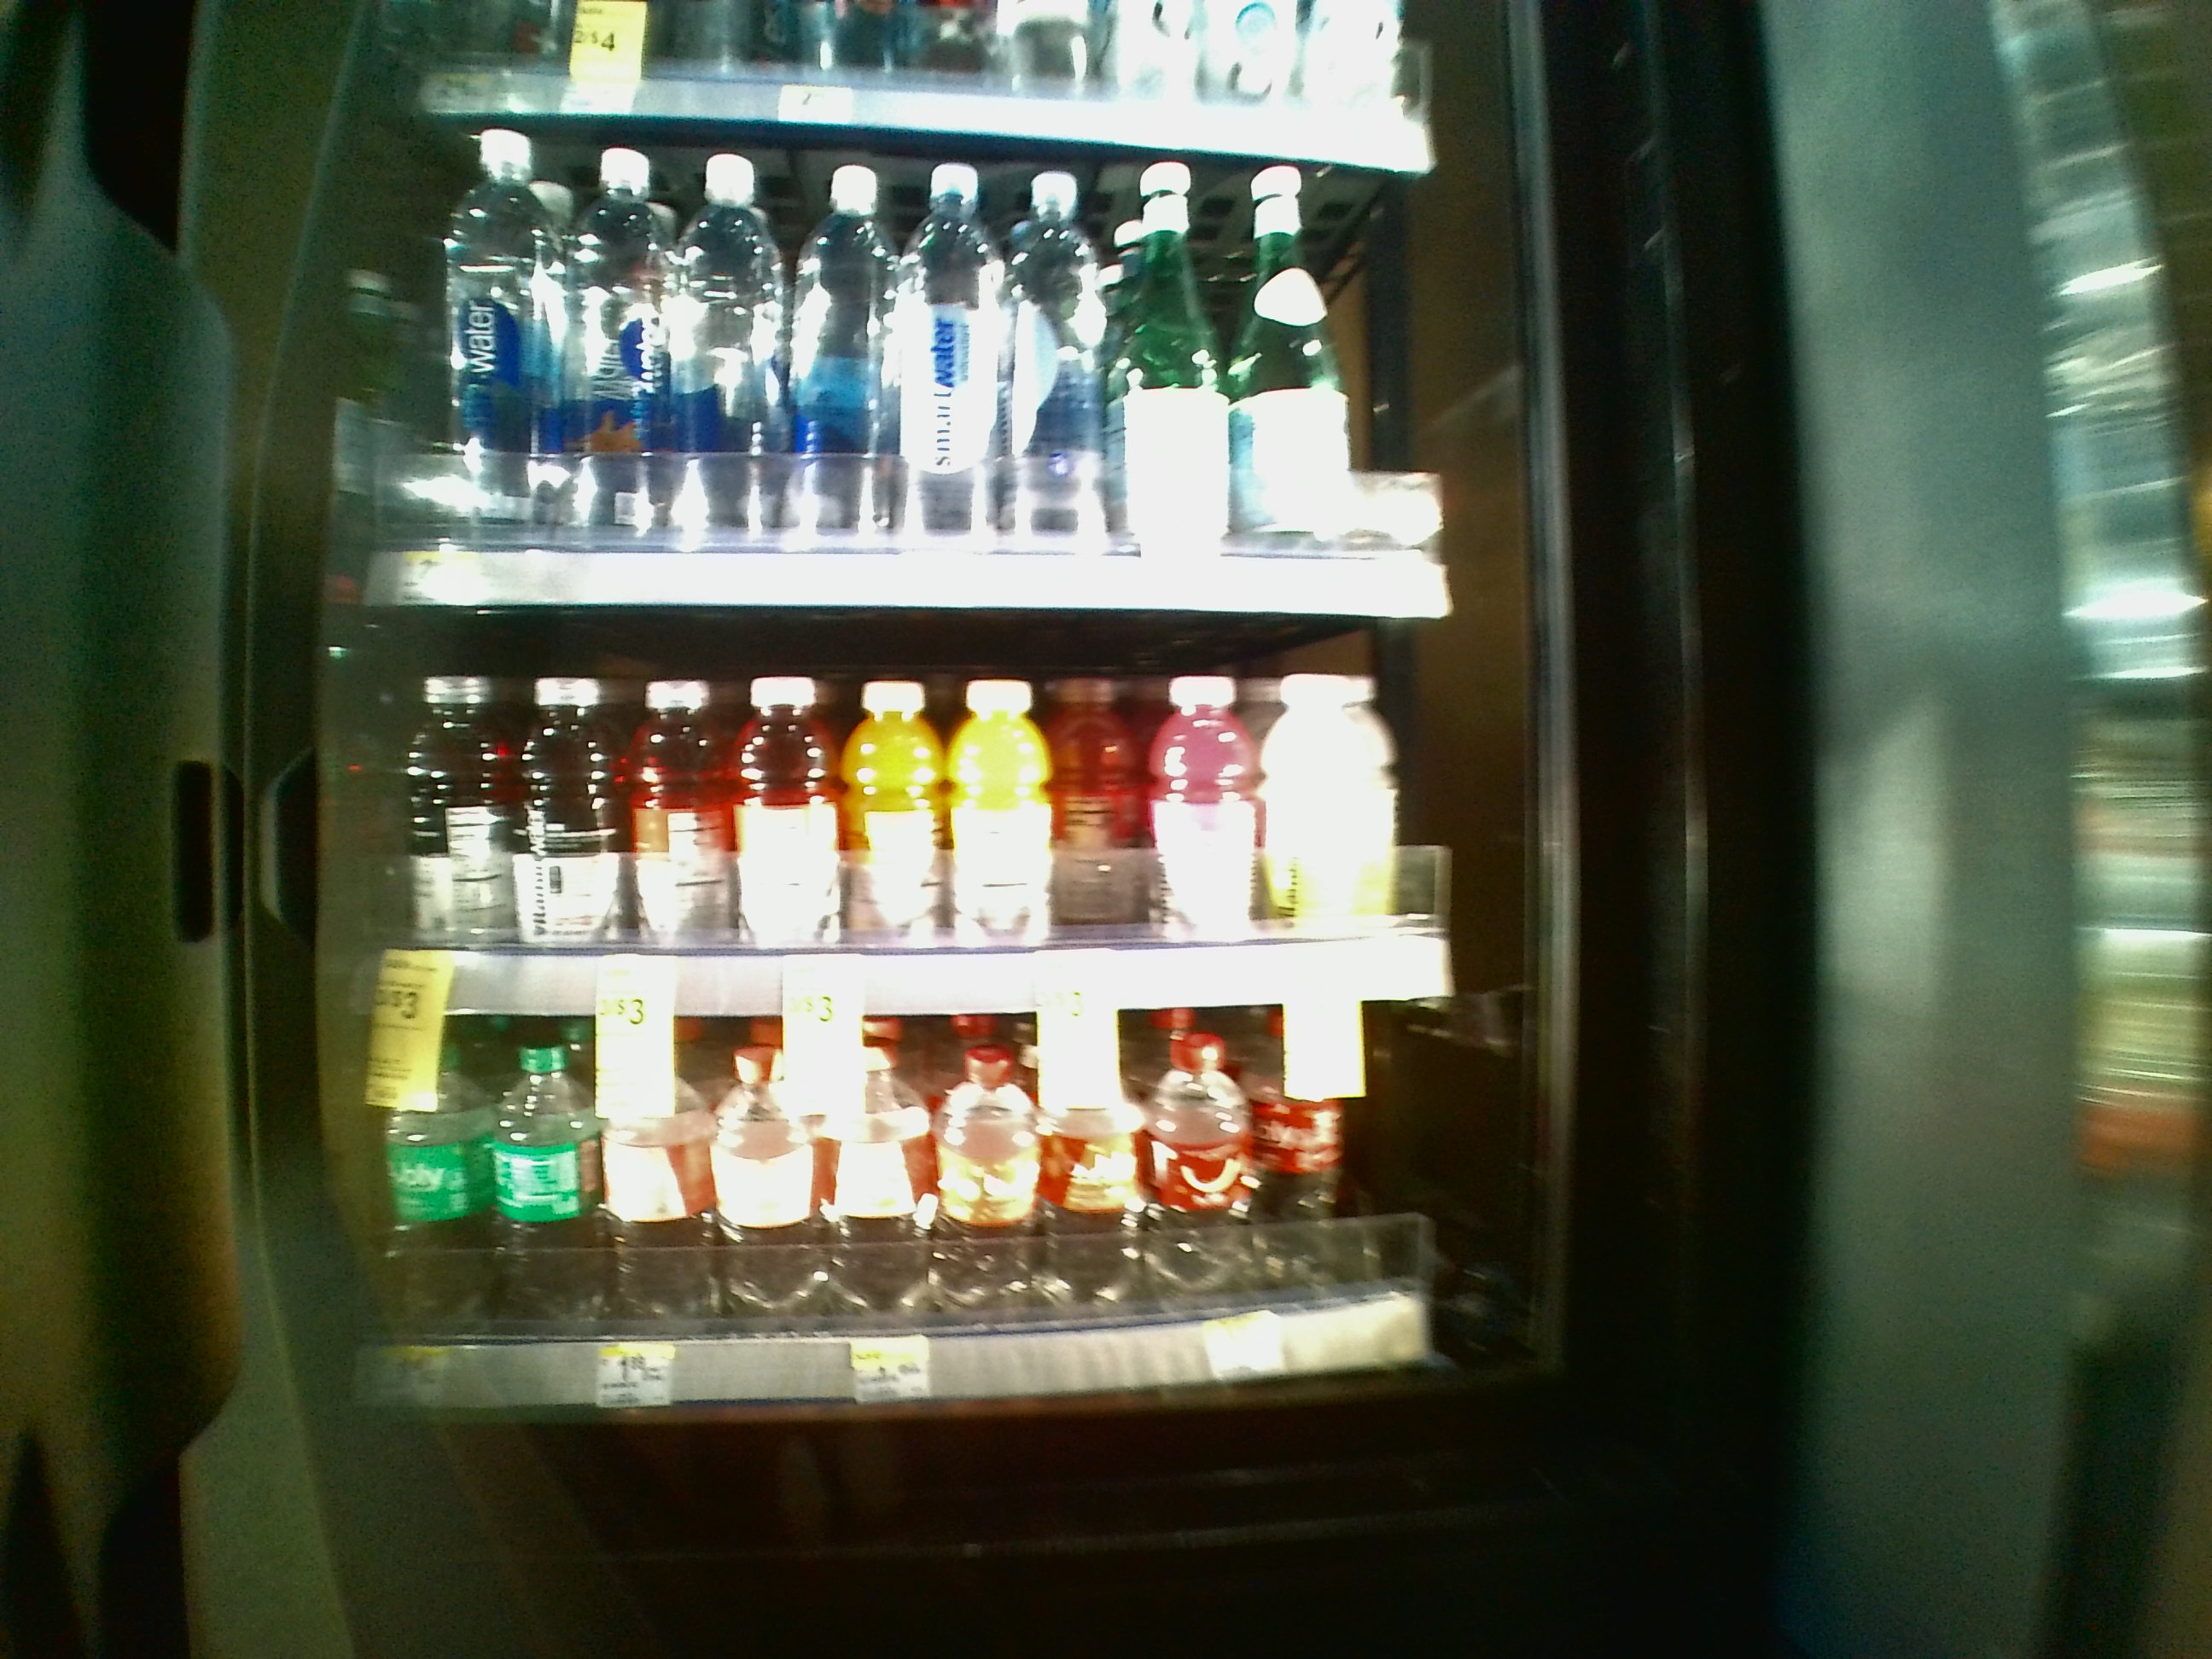shelf: (308, 131, 1475, 620), (307, 620, 1480, 1019), (307, 1018, 1480, 1412)
